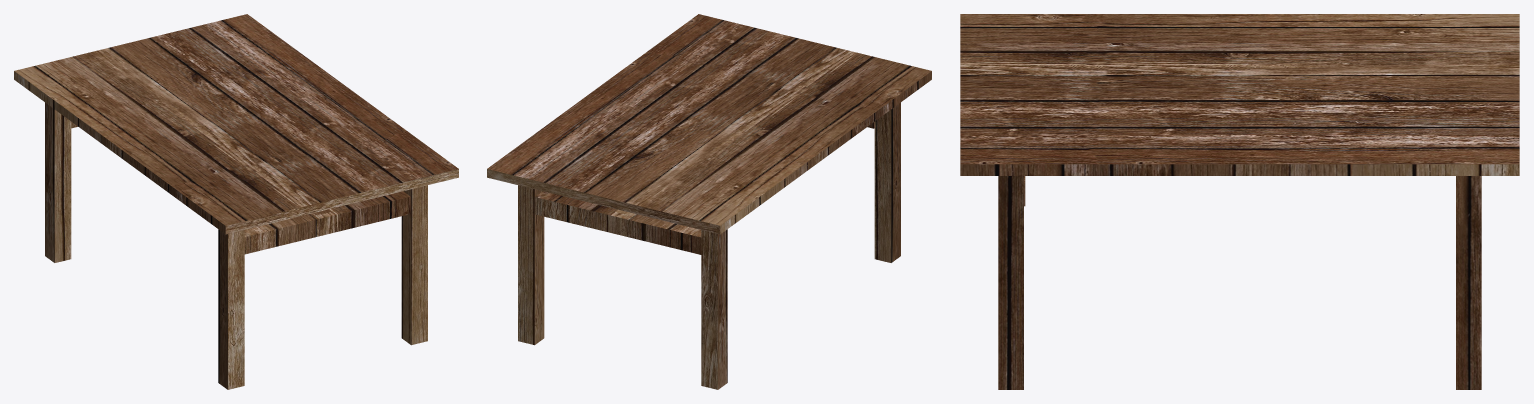
Rendered from table.obj.
3 renders of one model, left to right at view 1: azimuth 30°, elevation 25°; view 2: azimuth 150°, elevation 25°; view 3: azimuth 270°, elevation 25°, orthographic. The views are drawn at different scales.
Parts seen in each view (by area): view 1: Bein; view 2: Bein; view 3: Bein.
Part boxes in pixels (x1,y1,x2,y2): Bein: (14,14,458,389); Bein: (487,14,931,389); Bein: (960,14,1519,389).
Bounding box in the file's own units: 140 × 103 × 220.
2 materials, 2 textured.
